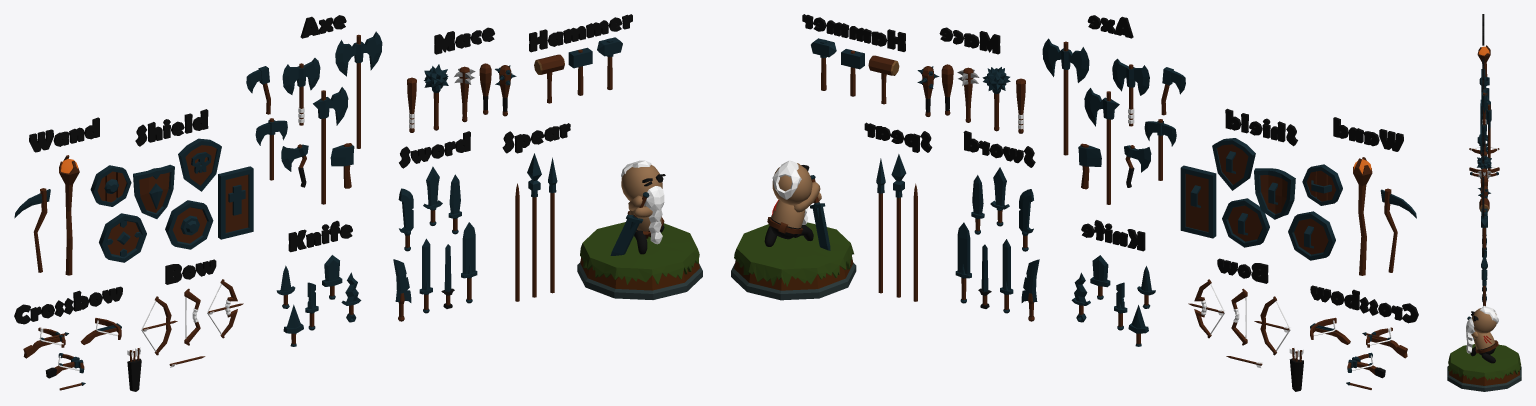
The model's file is WeaponFantasy.fbx.
3 views of the same model, side by side, from view 1: azimuth 30°, elevation 25°; view 2: azimuth 150°, elevation 25°; view 3: azimuth 270°, elevation 25° (orthographic). The views are drawn at different scales.
Visible parts, largest first — view 1: Ground02, Char01, Ground01, Plane024, Shield03, Shield01, Shield02, Object094, Weapon46, TextPlus007, TextPlus004, Object092 (+25 smaller); view 2: Ground02, Char01, Plane024, Ground01, Shield01, Shield03, Shield02, Weapon46, Object094, TextPlus004, TextPlus007, Object092 (+23 smaller); view 3: Ground02, Char01, Ground01, Weapon46, Weapon_Wand01, Box11105, Weapon052, Weapon45, TextPlus004, Cylinder1329, Object092, Weapon41 (+10 smaller).
Boxes of the visible parts, box(x1,y1,x2,y2) form: Ground02: box(580, 222, 699, 284); Char01: box(621, 160, 665, 254); Ground01: box(577, 258, 702, 299); Plane024: box(218, 166, 253, 239); Shield03: box(165, 200, 213, 249); Shield01: box(99, 213, 146, 262); Shield02: box(133, 164, 174, 218); Object094: box(178, 138, 221, 191); Weapon46: box(335, 31, 382, 148); TextPlus007: box(14, 286, 122, 324); TextPlus004: box(529, 14, 632, 52); Object092: box(90, 165, 131, 206); Ground02: box(734, 222, 853, 286); Char01: box(764, 160, 821, 246); Plane024: box(1180, 165, 1216, 238); Ground01: box(731, 257, 856, 300); Shield01: box(1288, 211, 1335, 260); Shield03: box(1222, 198, 1269, 247); Shield02: box(1254, 168, 1295, 219); Weapon46: box(1042, 38, 1089, 155); Object094: box(1212, 138, 1255, 190); TextPlus004: box(802, 14, 905, 51); TextPlus007: box(1310, 285, 1418, 323); Object092: box(1302, 164, 1342, 205); Ground02: box(1448, 344, 1520, 380); Char01: box(1466, 306, 1498, 363); Ground01: box(1447, 366, 1521, 391); Weapon46: box(1486, 100, 1491, 174); Weapon_Wand01: box(1477, 45, 1490, 76); Box11105: box(1481, 216, 1487, 248); Weapon052: box(1481, 264, 1487, 305); Weapon45: box(1482, 87, 1486, 123); TextPlus004: box(1482, 177, 1484, 217); Cylinder1329: box(1479, 197, 1489, 211); Object092: box(1479, 69, 1489, 91); Weapon41: box(1482, 119, 1486, 151).
Bounding box in the file's own units: 1224 × 580 × 187.
